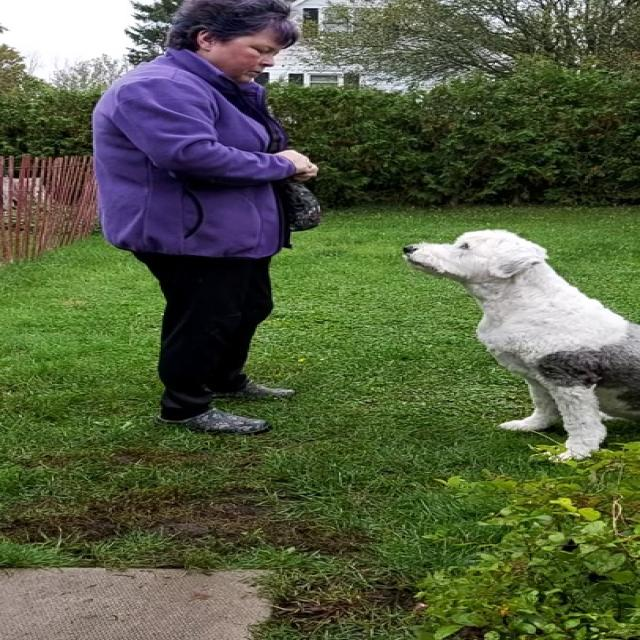Unleashed_Dog: (170, 228, 640, 460)
